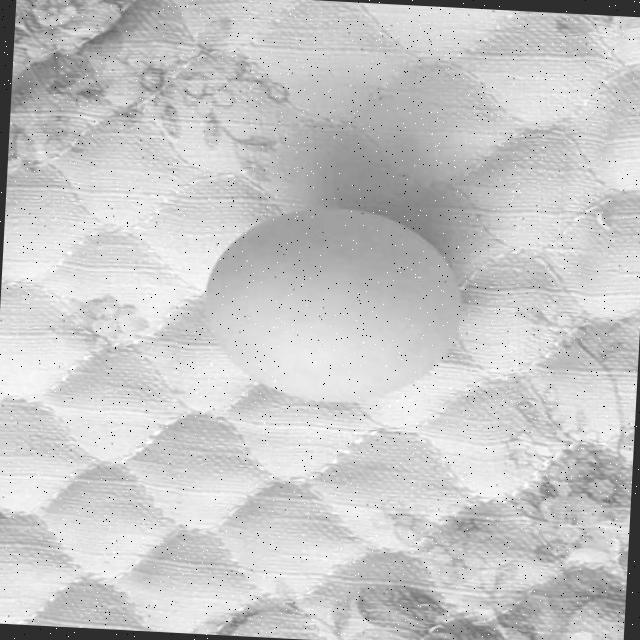ping-pong-ball: (202, 205, 466, 402)
